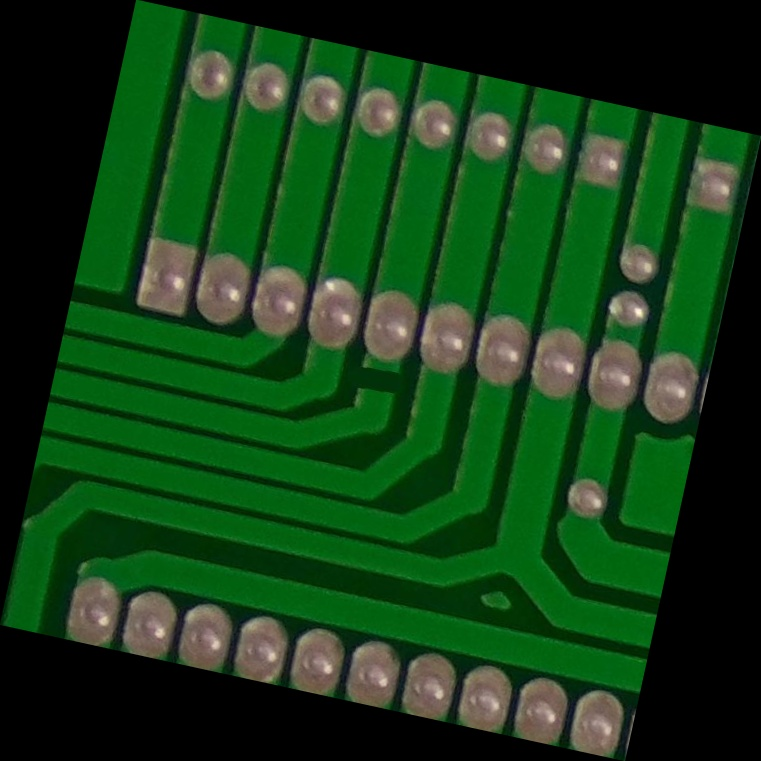open_circuit: (347, 354, 413, 408)
